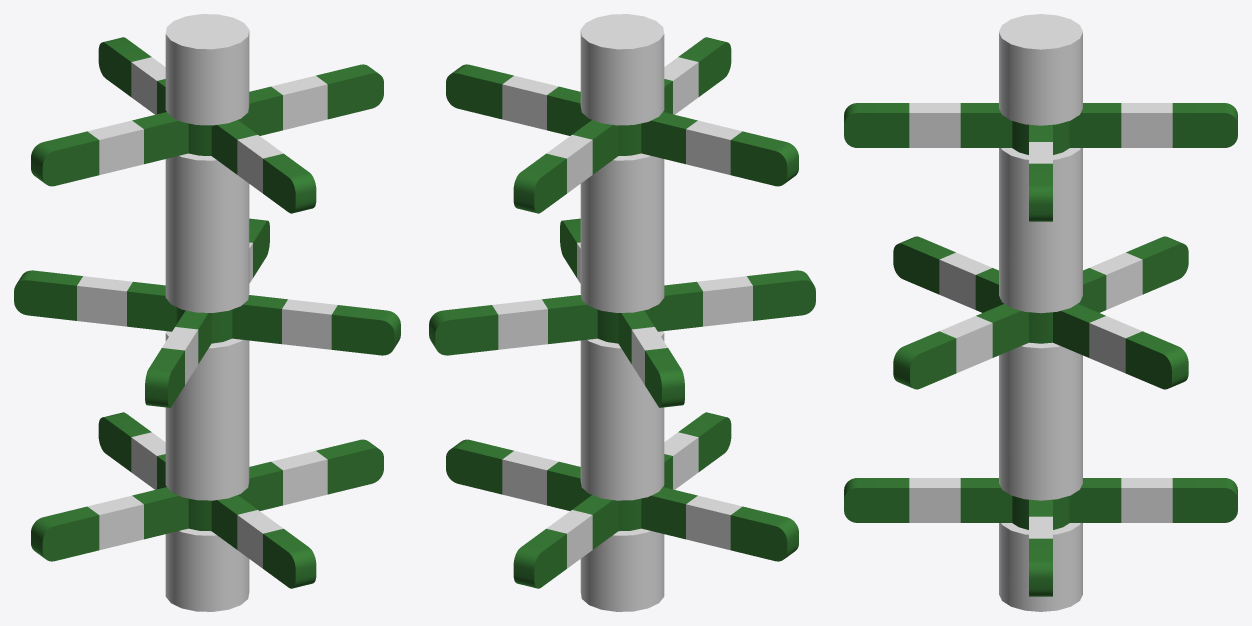
File: Blades A Big.fbx
3 views of the same model, side by side, from view 1: azimuth 30°, elevation 25°; view 2: azimuth 150°, elevation 25°; view 3: azimuth 270°, elevation 25° (orthographic).
Visible parts, largest first — view 1: Blades A Big.001, Blades A Big, Blades A Big.002, Blades A Big.003; view 2: Blades A Big.001, Blades A Big, Blades A Big.002, Blades A Big.003; view 3: Blades A Big.001, Blades A Big.003, Blades A Big, Blades A Big.002.
Boxes of the visible parts, x1=… form: Blades A Big.001: x1=165, y1=14, x2=249, y2=611; Blades A Big: x1=31, y1=412, x2=383, y2=588; Blades A Big.002: x1=31, y1=37, x2=383, y2=213; Blades A Big.003: x1=14, y1=218, x2=400, y2=407; Blades A Big.001: x1=580, y1=14, x2=664, y2=611; Blades A Big: x1=446, y1=412, x2=798, y2=588; Blades A Big.002: x1=446, y1=37, x2=798, y2=213; Blades A Big.003: x1=429, y1=218, x2=815, y2=407; Blades A Big.001: x1=999, y1=14, x2=1082, y2=611; Blades A Big.003: x1=893, y1=236, x2=1188, y2=389; Blades A Big: x1=844, y1=478, x2=1237, y2=596; Blades A Big.002: x1=844, y1=103, x2=1237, y2=221.
Bounding box in the file's own units: 200 × 315 × 200.
